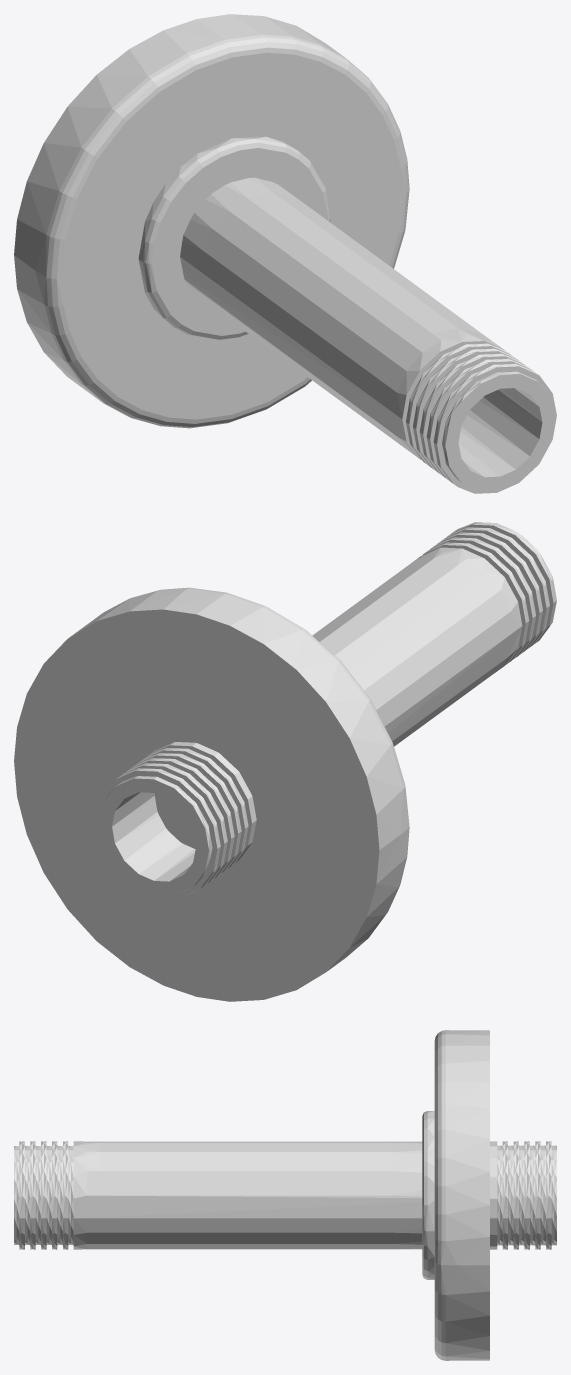
The model's file is AEC_49619.glb.
3 renders of one model, top to bottom at view 1: azimuth 30°, elevation 25°; view 2: azimuth 150°, elevation 25°; view 3: azimuth 270°, elevation 25°, orthographic. The views are drawn at different scales.
Parts seen in each view (by area): view 1: 0; view 2: 0; view 3: 0.
Boxes of the visible parts, bbox=[...] form: 0: bbox=[14, 14, 556, 493]; 0: bbox=[14, 522, 556, 1001]; 0: bbox=[14, 1030, 556, 1360].
Bounding box in the file's own units: 0.0609 × 0.0609 × 0.1.
Materials: 1 (1 with a texture image).
